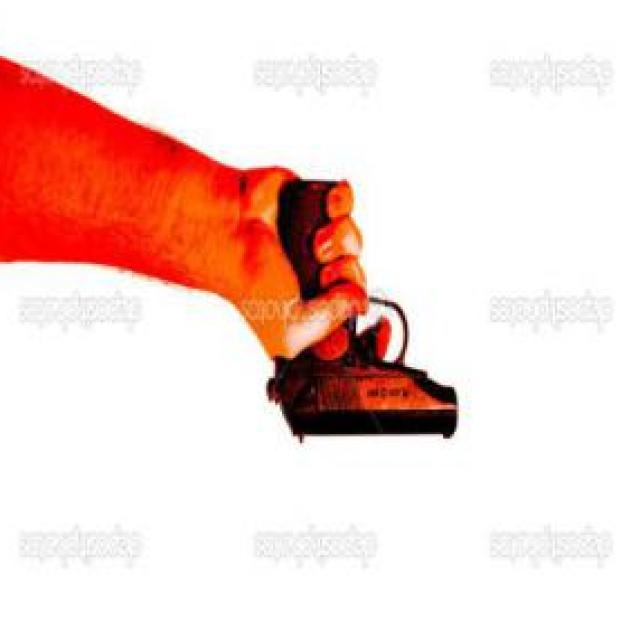pistol: (264, 172, 448, 454)
